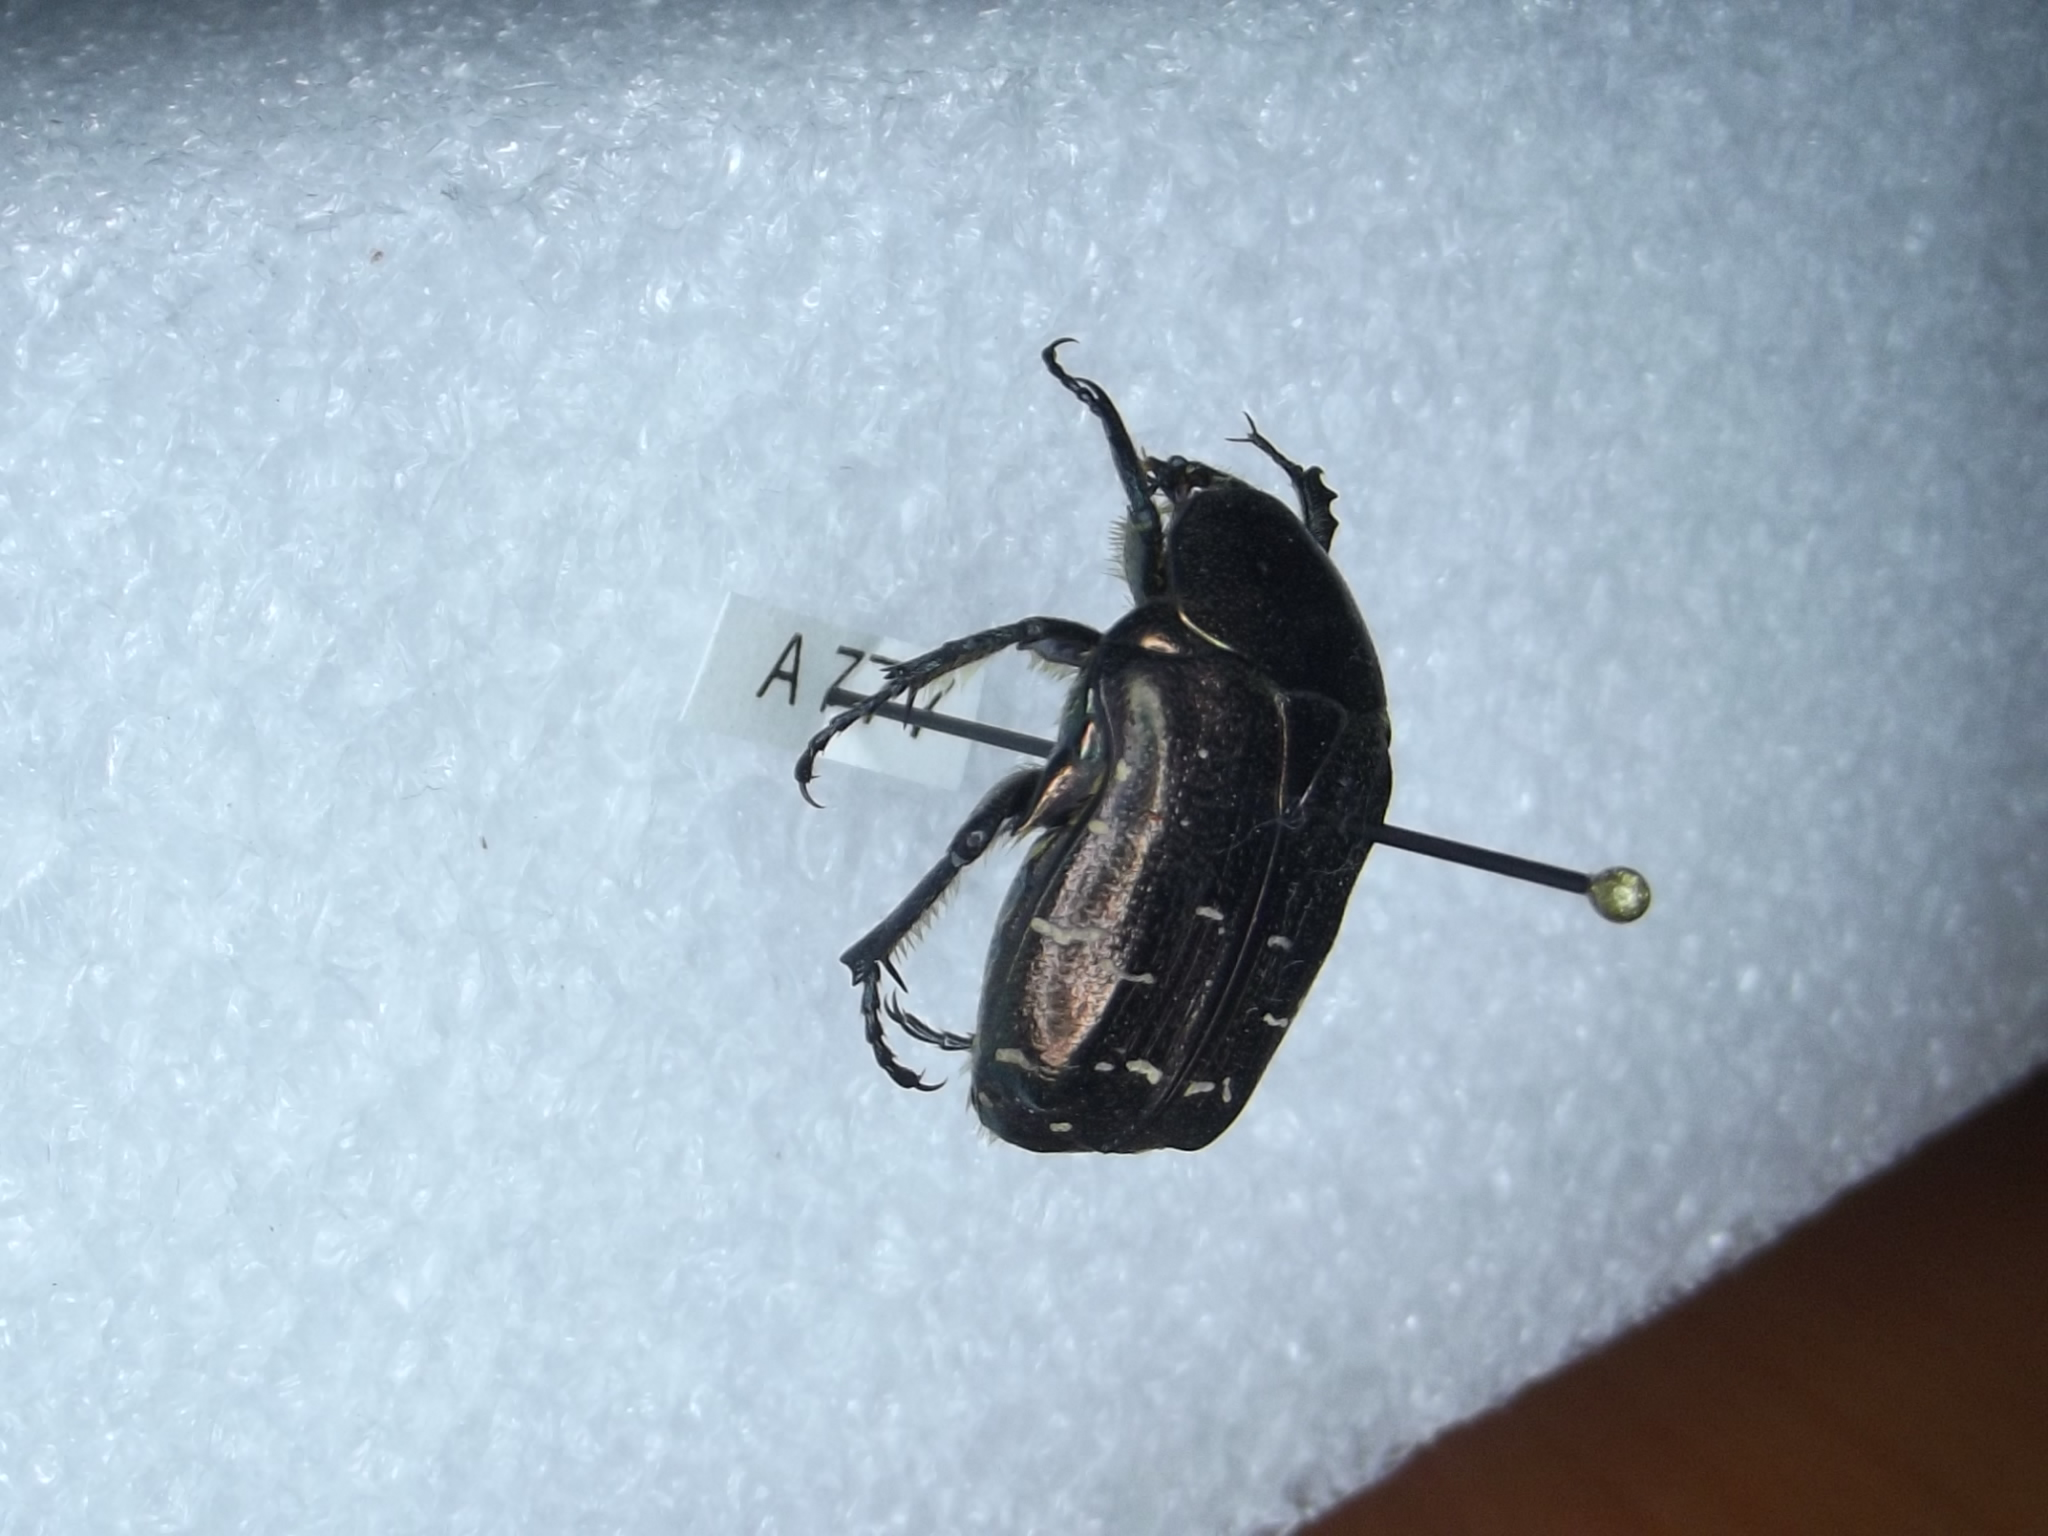Cetonia_aurata: (785, 308, 1400, 1191)
